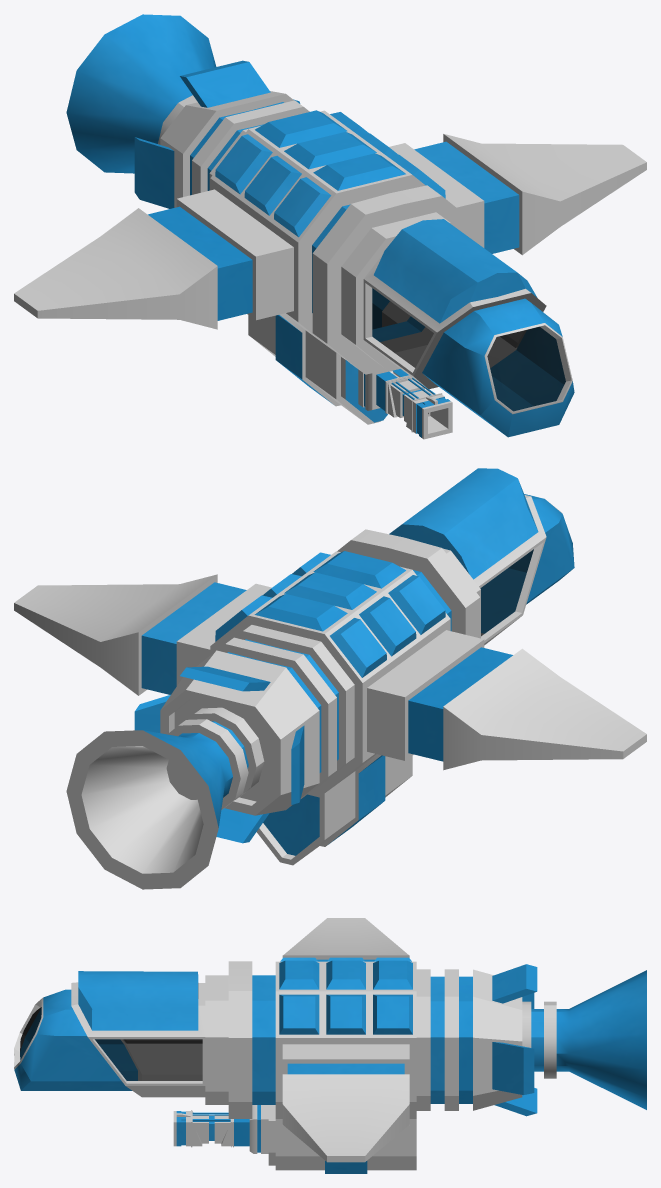
The model's file is BDB.fbx.
The picture shows the model from 3 angles, top to bottom: view 1: azimuth 30°, elevation 25°; view 2: azimuth 150°, elevation 25°; view 3: azimuth 270°, elevation 25°; orthographic projection. The views are drawn at different scales.
Visible parts, largest first — view 1: BDB; view 2: BDB; view 3: BDB.
Part boxes in pixels (bbox=[...]): BDB: bbox=[14, 14, 646, 439]; BDB: bbox=[14, 468, 646, 889]; BDB: bbox=[14, 918, 646, 1173].
Size of the model in its own units: 8 by 3.15 by 8.99.
